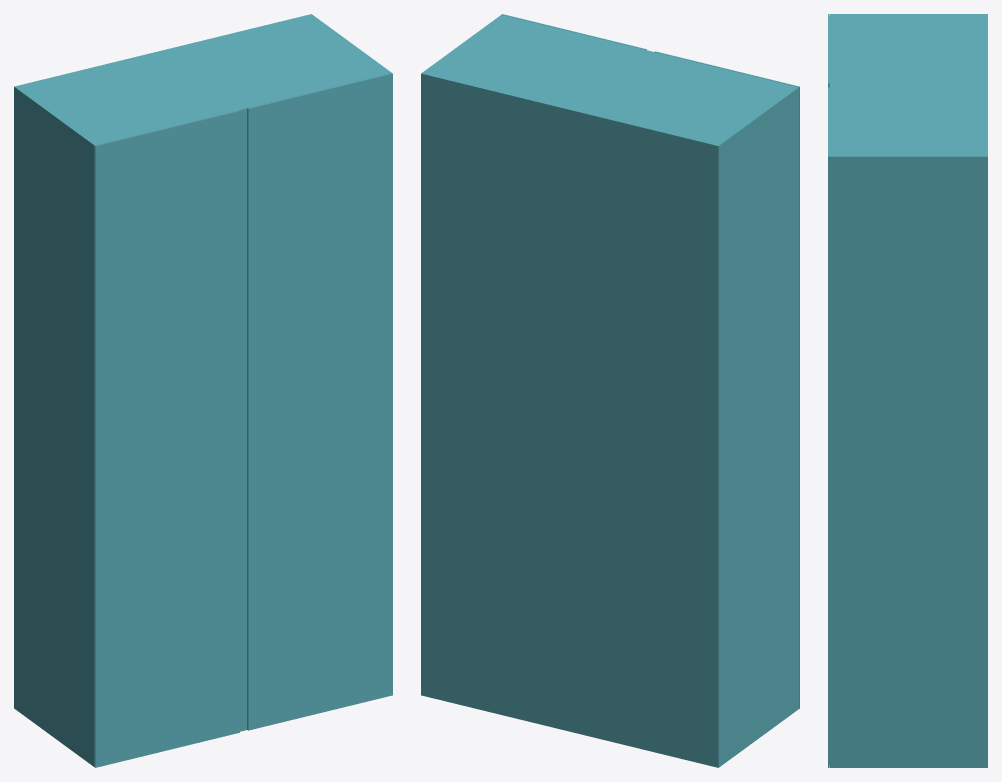
Rendered from Cupboard_medium_1293_612_2582.fbx.
The picture shows the model from 3 angles, left to right: view 1: azimuth 30°, elevation 25°; view 2: azimuth 150°, elevation 25°; view 3: azimuth 270°, elevation 25°; orthographic projection.
Parts seen in each view (by area): view 1: Cupboard_medium_1293_612_2582; view 2: Cupboard_medium_1293_612_2582; view 3: Cupboard_medium_1293_612_2582.
Part boxes in pixels (<box>): Cupboard_medium_1293_612_2582: <box>14,14,392,767</box>; Cupboard_medium_1293_612_2582: <box>421,14,799,767</box>; Cupboard_medium_1293_612_2582: <box>828,14,987,767</box>.
Size of the model in its own units: 129 by 258 by 61.26.
